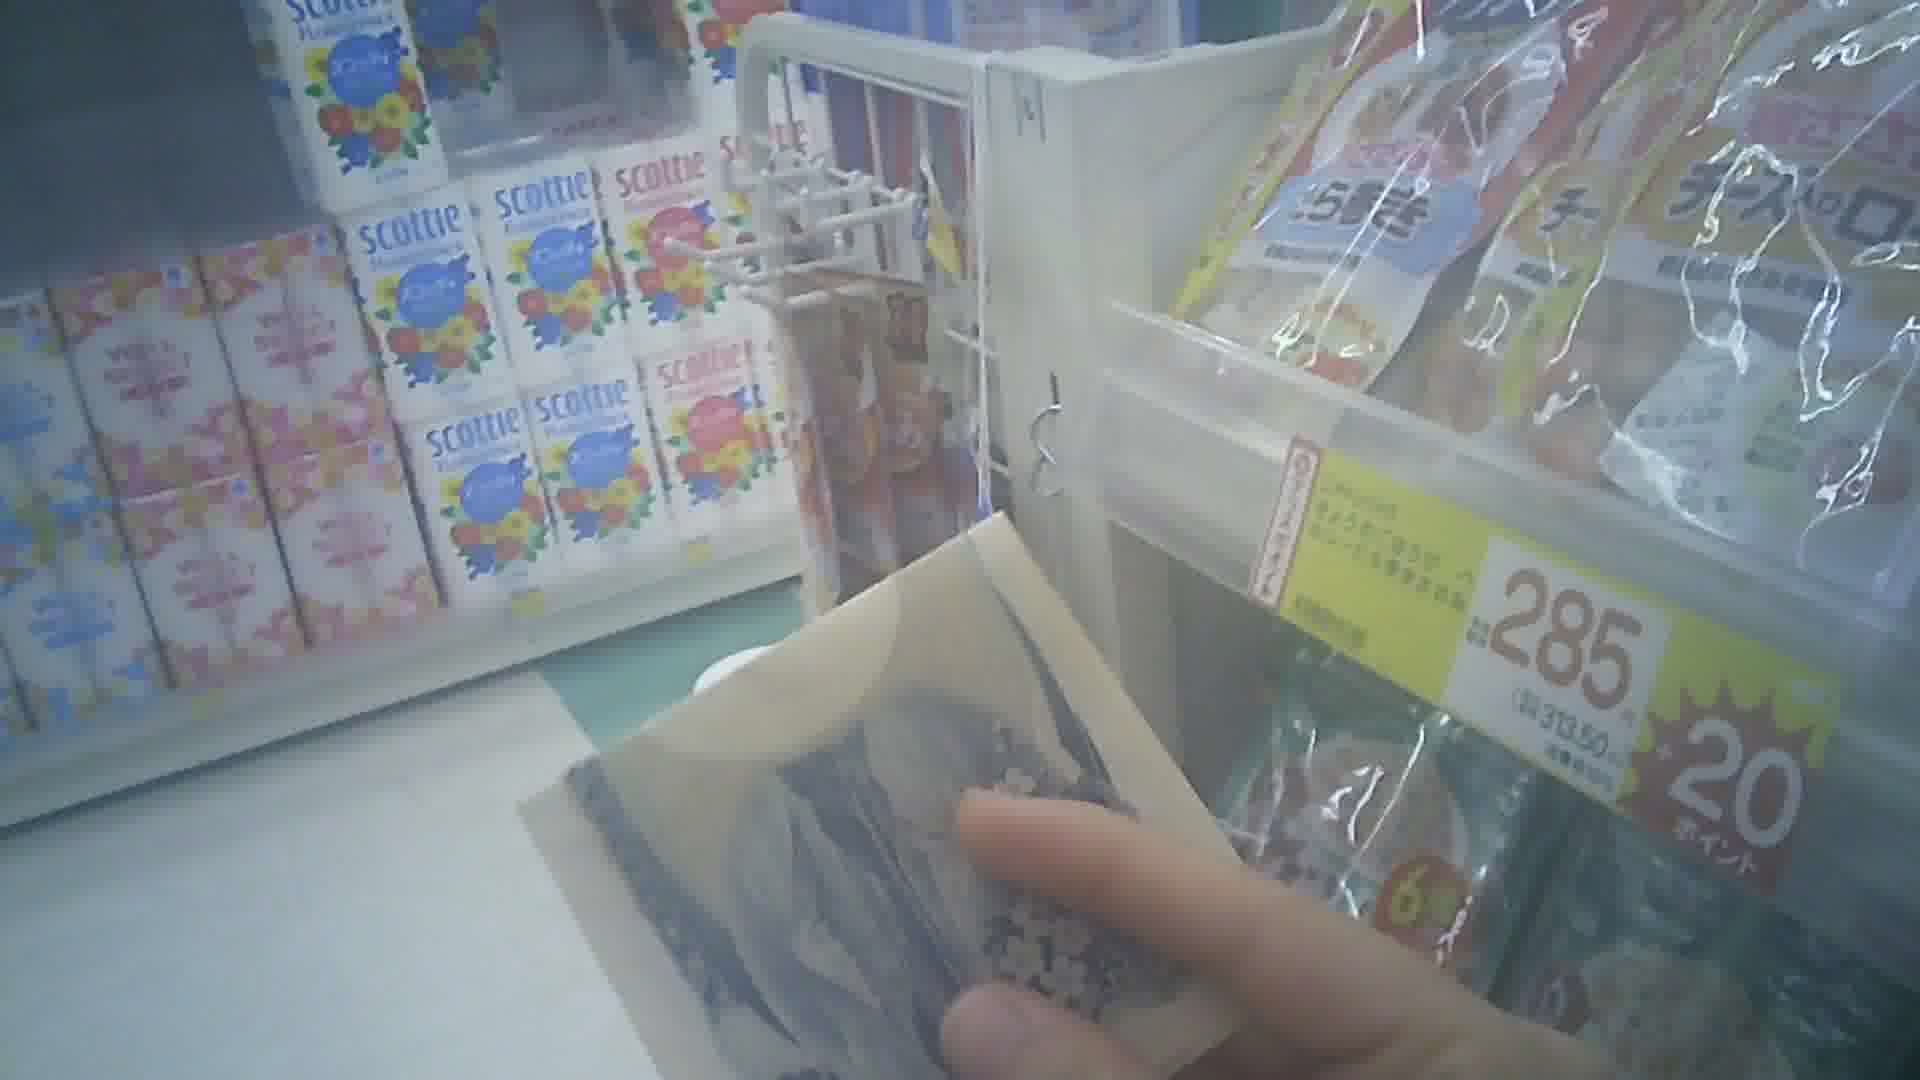1,000 Yen: (497, 516, 1221, 1079)
